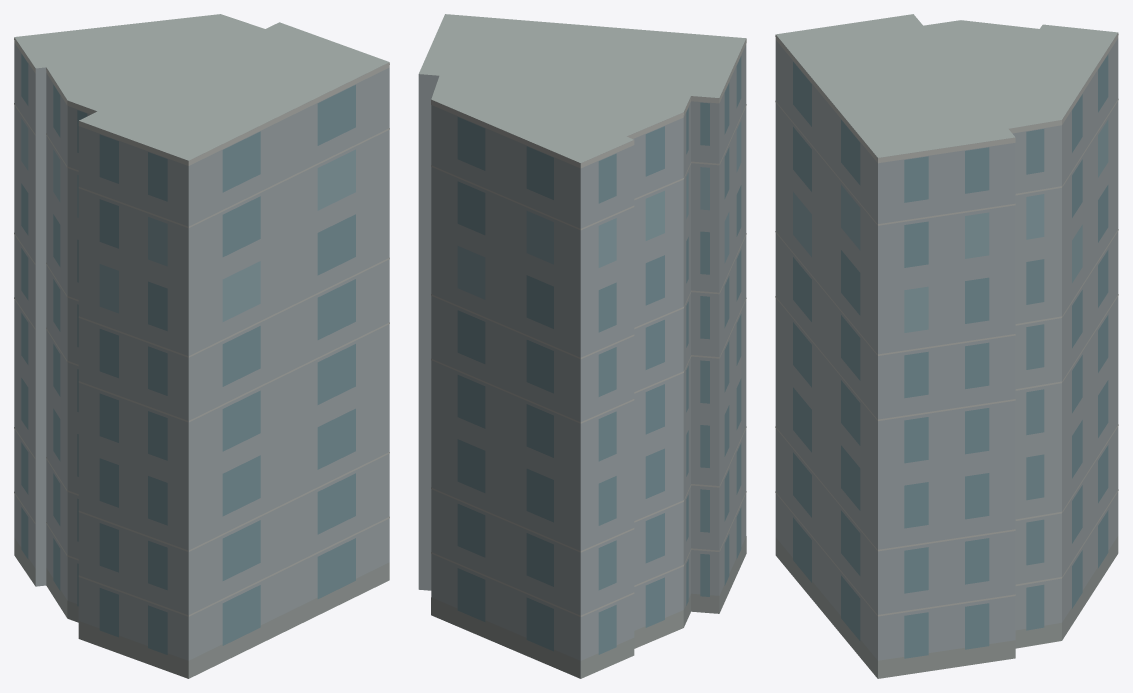
The model's file is survey-upis-32592914.glb.
The picture shows the model from 3 angles, left to right: view 1: azimuth 30°, elevation 25°; view 2: azimuth 150°, elevation 25°; view 3: azimuth 270°, elevation 25°; orthographic projection.
Visible parts, largest first — view 1: survey-upis-32592914.tmp; view 2: survey-upis-32592914.tmp; view 3: survey-upis-32592914.tmp.
Part boxes in pixels (box(x1,y1,x2,y2)): survey-upis-32592914.tmp: box(14, 14, 389, 678); survey-upis-32592914.tmp: box(418, 14, 746, 678); survey-upis-32592914.tmp: box(775, 14, 1118, 678).
Size of the model in its own units: 14.07 by 23.7 by 14.15.
